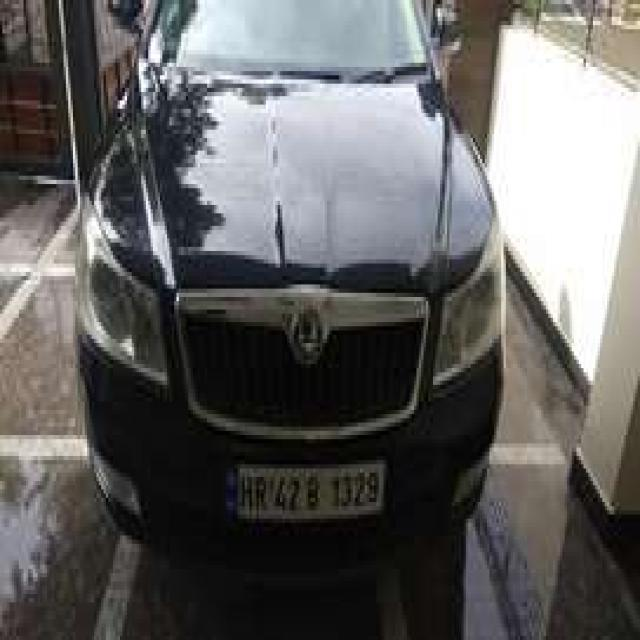license-plate: (221, 452, 386, 510)
